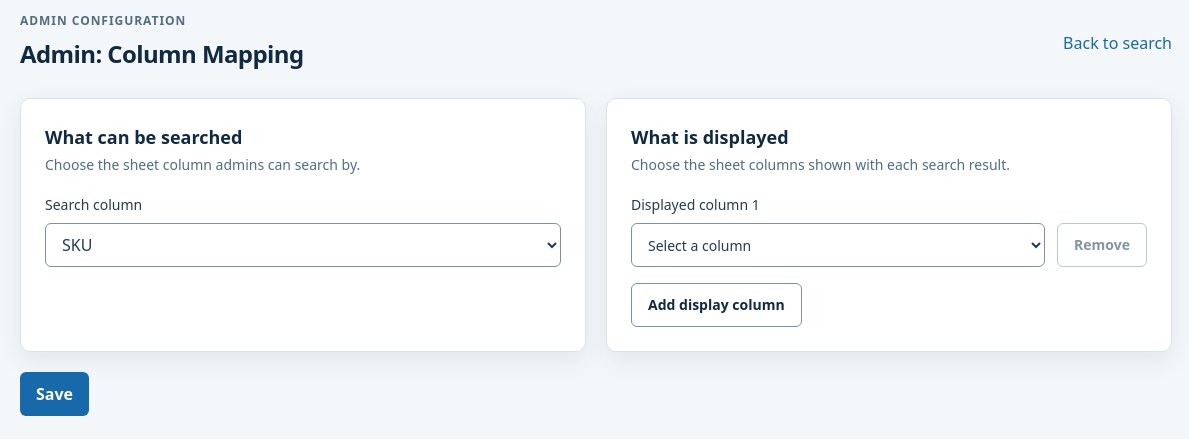
Test: AdminPage › rejects save while a displayed row is empty
The width and height of the screenshot is (1189, 439).
Expected: the dropdown labelled "Search column" is shown, [45,223,561,267]
Expected: the dropdown labelled "Displayed column 1" shows "Select a column", [631,223,1045,267]
Click the button "Save" at (54, 394), box [20,372,89,416]
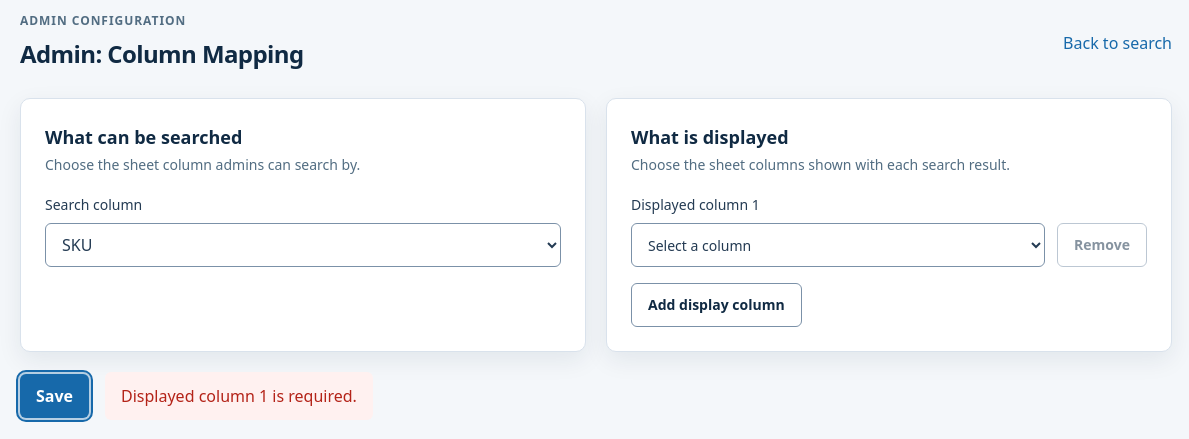
Expected: the text "Displayed column 1 is required." is shown, [105,372,373,420]
